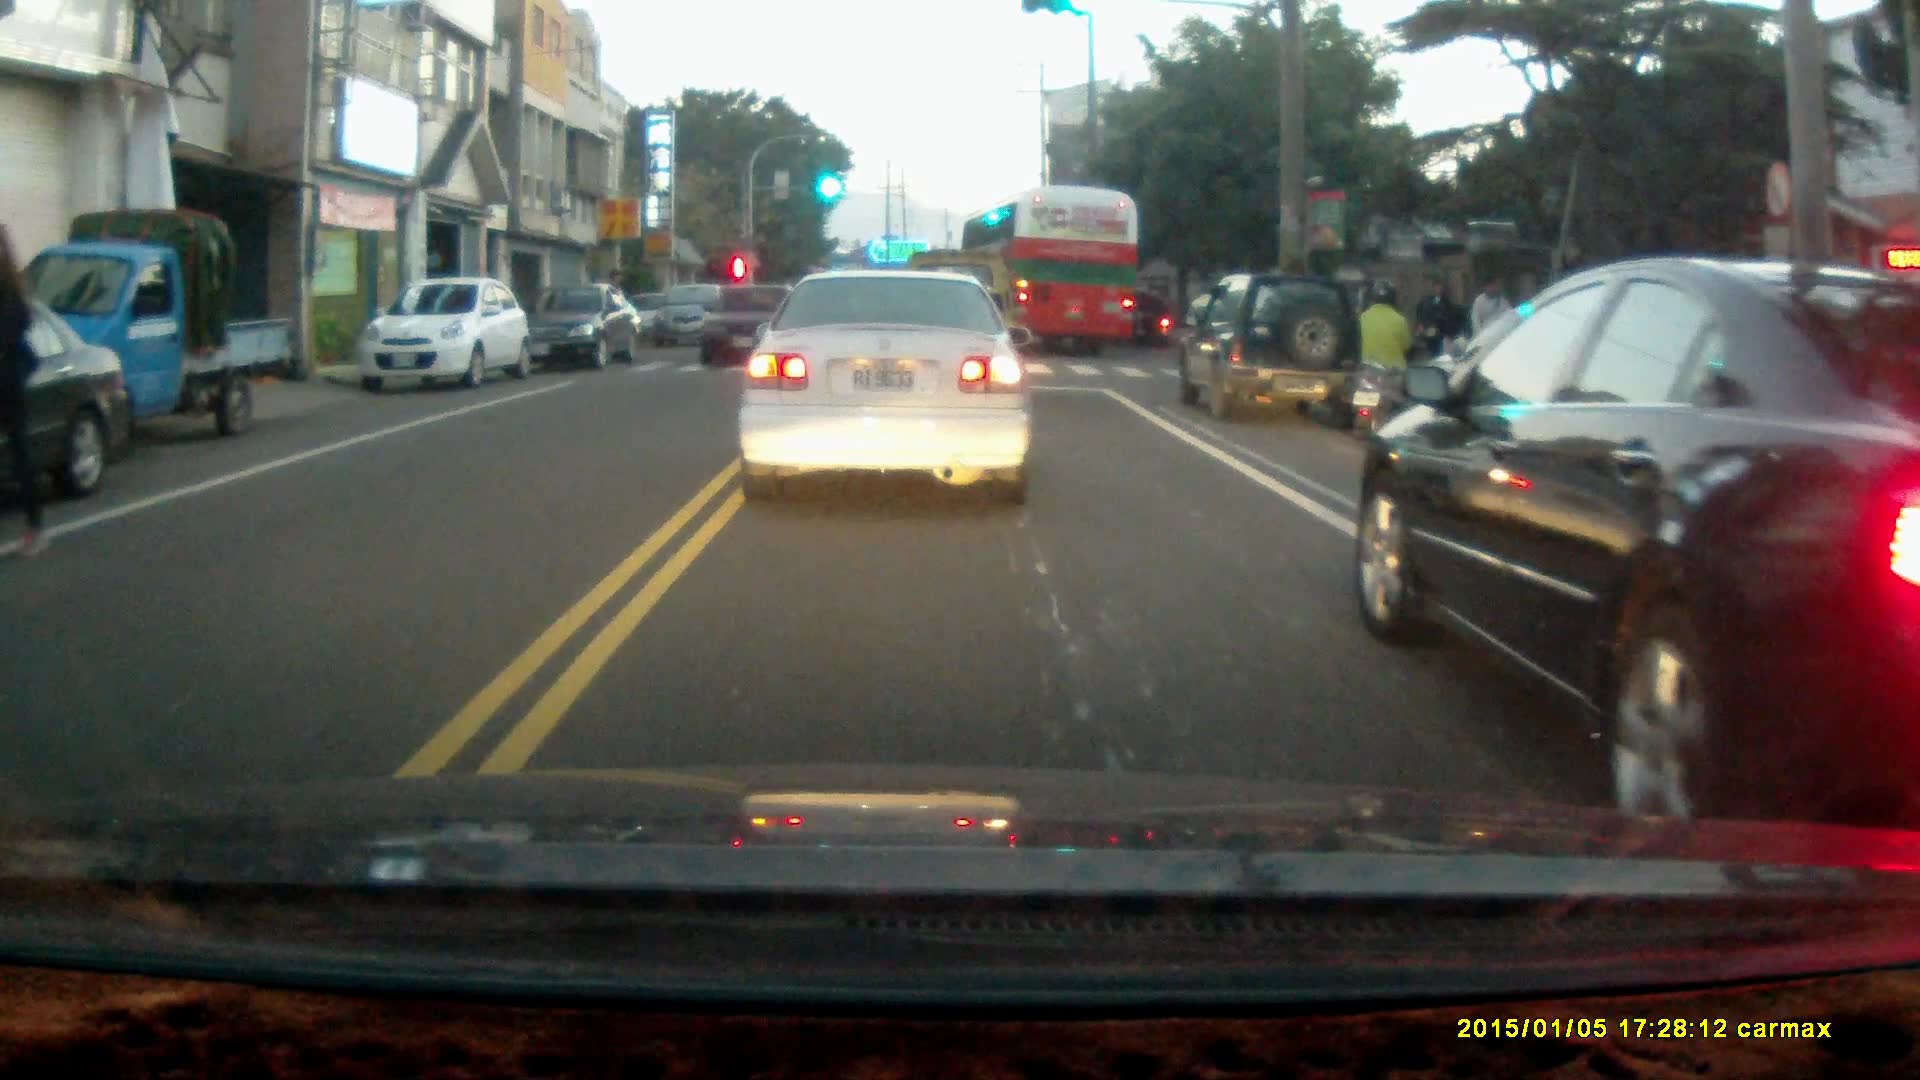pedestrian: (0, 219, 51, 558), (1467, 273, 1516, 385), (1413, 274, 1457, 392)
rider: (1347, 282, 1417, 443), (1115, 292, 1175, 349)
vehicle: (1360, 256, 1920, 835), (731, 267, 1034, 508), (7, 209, 283, 445), (1, 290, 138, 515), (963, 188, 1144, 357), (1178, 275, 1372, 430), (360, 281, 524, 395), (531, 283, 648, 373), (649, 286, 736, 357)
